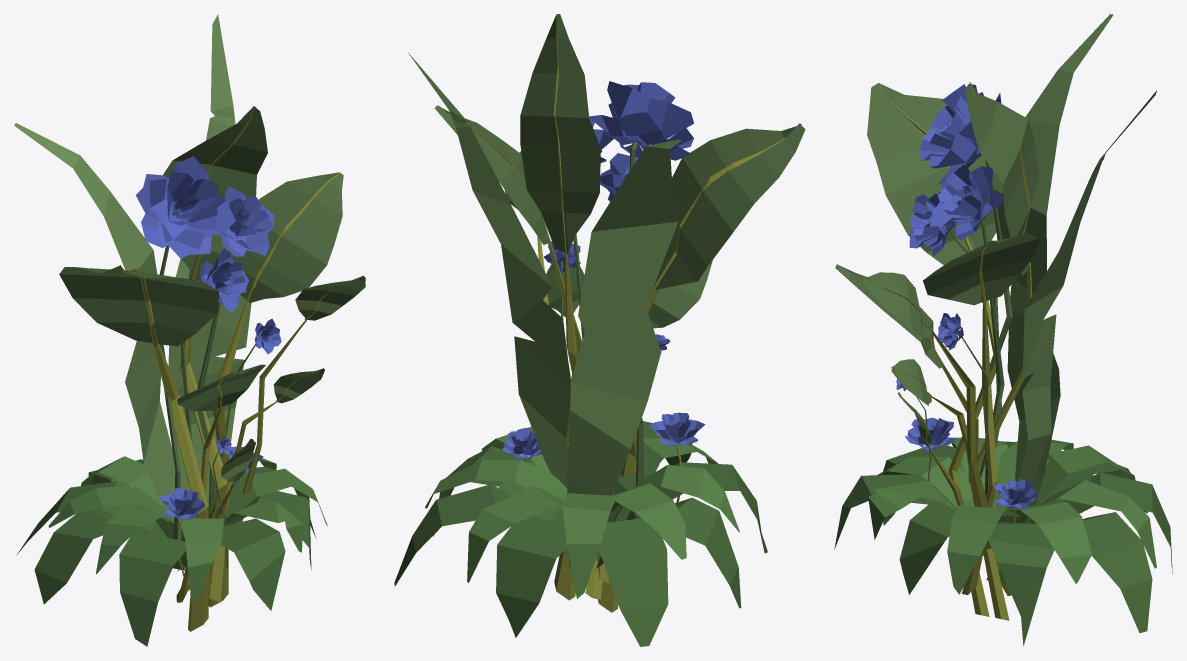
The model's file is flower_1.glb.
The picture shows the model from 3 angles, left to right: view 1: azimuth 30°, elevation 25°; view 2: azimuth 150°, elevation 25°; view 3: azimuth 270°, elevation 25°; orthographic projection. The views are drawn at different scales.
Parts seen in each view (by area): view 1: Flower01Plant; view 2: Flower01Plant; view 3: Flower01Plant.
Boxes of the visible parts, x1,y1,x2,y2 form: Flower01Plant: (14,14,365,646); Flower01Plant: (394,14,805,646); Flower01Plant: (834,14,1172,646).
Bounding box in the file's own units: 0.8487 × 1.5 × 0.7884.
